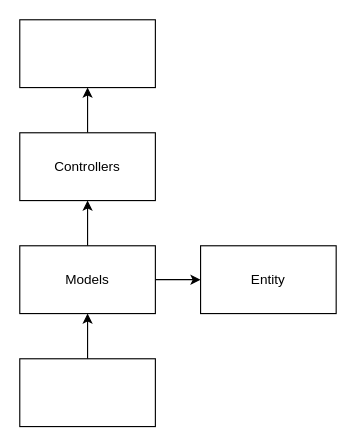
Image size: 356x446. Some labels were removed from this diagram. Here are the shapes that lost their labels. From the top down, the centre of each, then its label:
(87,53): View
(87,392): Database
